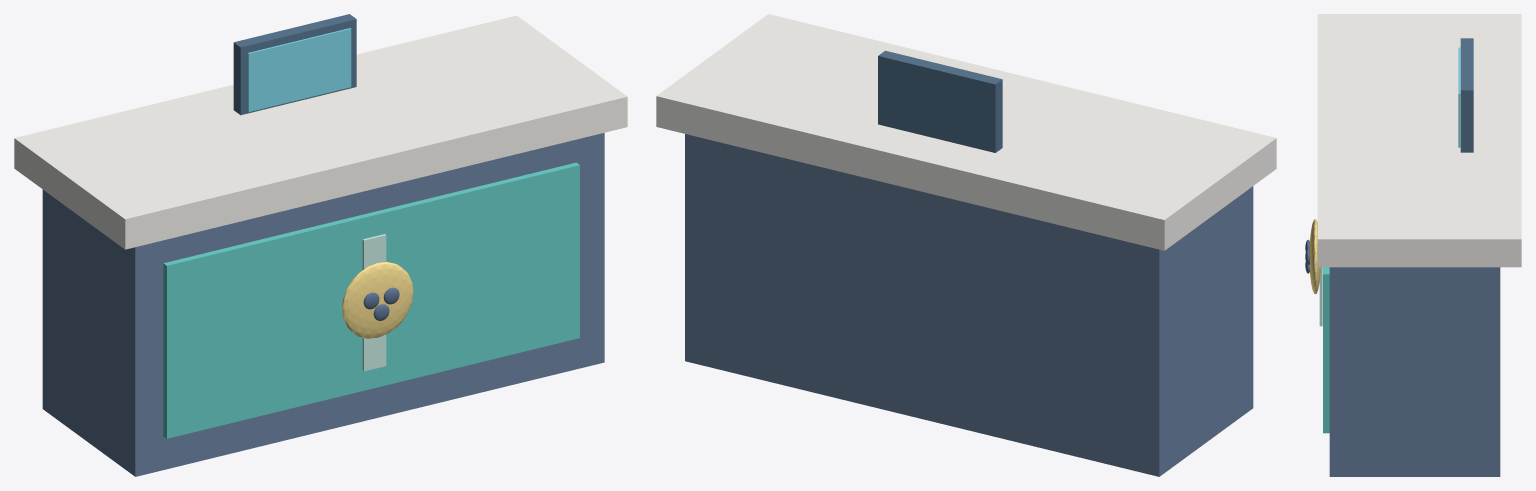
The model's file is reception_desk.glb.
3 renders of one model, left to right at view 1: azimuth 30°, elevation 25°; view 2: azimuth 150°, elevation 25°; view 3: azimuth 270°, elevation 25°, orthographic. The views are drawn at different scales.
Visible parts, largest first — view 1: countertop, front_panel, reception_base, monitor_screen, logo_disc, monitor, front_accent; view 2: reception_base, countertop, monitor; view 3: countertop, reception_base, monitor, front_panel, logo_disc, monitor_screen.
Part boxes in pixels (bbox=[...]): countertop: bbox=[14, 15, 627, 249]; front_panel: bbox=[163, 162, 579, 438]; reception_base: bbox=[42, 133, 604, 476]; monitor_screen: bbox=[247, 28, 351, 111]; logo_disc: bbox=[342, 262, 413, 338]; monitor: bbox=[233, 14, 356, 115]; front_accent: bbox=[362, 234, 386, 371]; reception_base: bbox=[685, 134, 1253, 476]; countertop: bbox=[656, 14, 1276, 250]; monitor: bbox=[878, 50, 1002, 152]; countertop: bbox=[1317, 14, 1521, 267]; reception_base: bbox=[1329, 267, 1500, 476]; monitor: bbox=[1460, 38, 1473, 152]; front_panel: bbox=[1323, 267, 1329, 433]; logo_disc: bbox=[1309, 219, 1320, 294]; monitor_screen: bbox=[1458, 47, 1460, 147].
Bounding box in the file's own units: 2.25 × 1.43 × 0.912.
